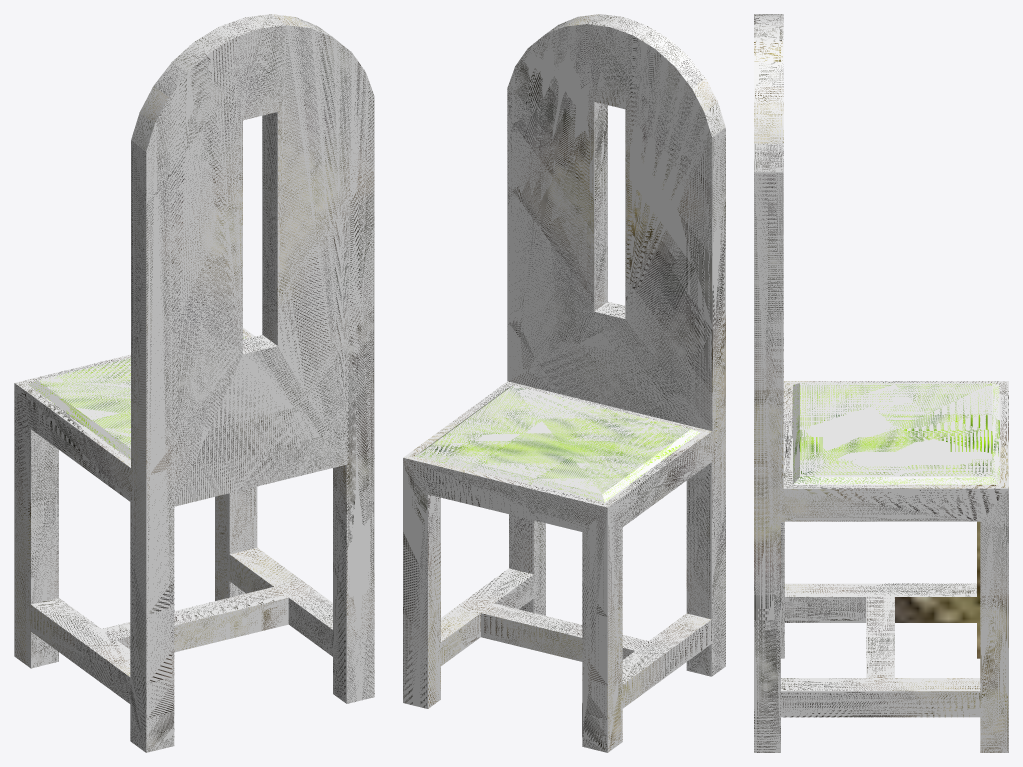
The picture shows the model from 3 angles, left to right: view 1: azimuth 30°, elevation 25°; view 2: azimuth 150°, elevation 25°; view 3: azimuth 270°, elevation 25°; orthographic projection. The views are drawn at different scales.
Visible parts, largest first — view 1: mesh1_mesh1-geometry; view 2: mesh1_mesh1-geometry; view 3: mesh1_mesh1-geometry.
Boxes of the visible parts, x1=… form: mesh1_mesh1-geometry: x1=14, y1=14, x2=374, y2=752; mesh1_mesh1-geometry: x1=403, y1=14, x2=725, y2=752; mesh1_mesh1-geometry: x1=754, y1=14, x2=1008, y2=752.
Size of the model in its own units: 0.3086 by 0.8997 by 0.3086.
